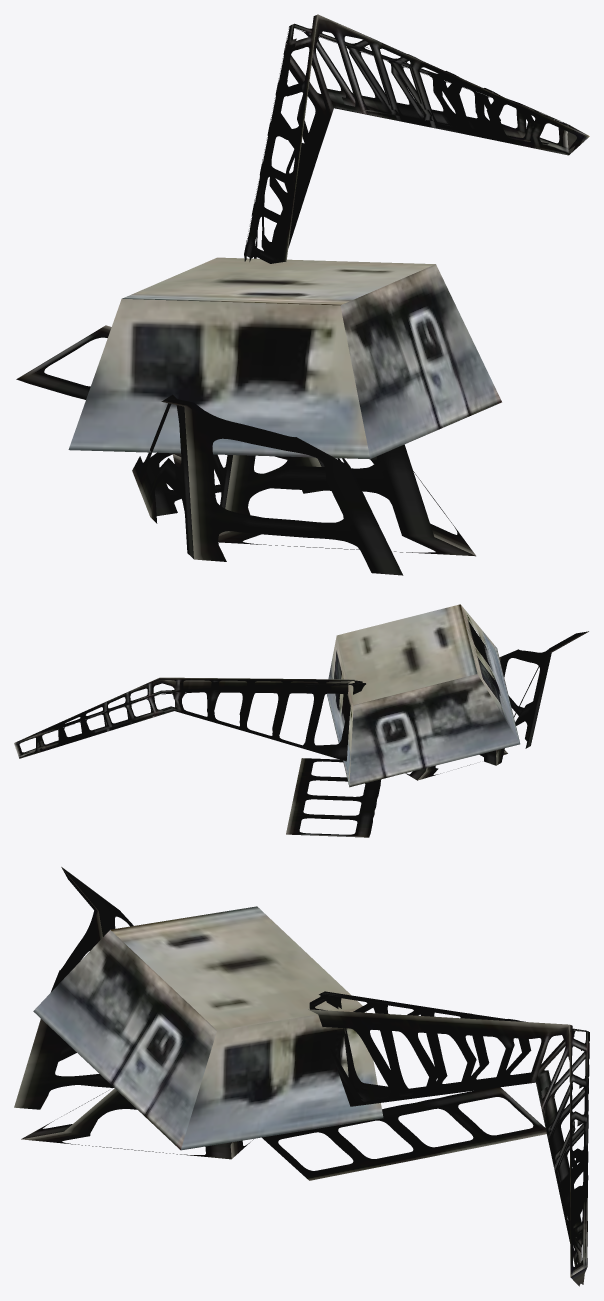
Rendered from crane_dam_hdtex.glb.
3 views of the same model, one above another, from view 1: azimuth 30°, elevation 25°; view 2: azimuth 150°, elevation 25°; view 3: azimuth 270°, elevation 25° (orthographic). The views are drawn at different scales.
Visible parts, largest first — view 1: Object01, Crane_PAB; view 2: Object01, Crane_PAB; view 3: Object01, Crane_PAB.
Part boxes in pixels (x1=…): Object01: x1=68, y1=257, x2=501, y2=575; Crane_PAB: x1=16, y1=14, x2=589, y2=459; Object01: x1=327, y1=604, x2=588, y2=787; Crane_PAB: x1=14, y1=677, x2=381, y2=837; Object01: x1=14, y1=867, x2=383, y2=1159; Crane_PAB: x1=262, y1=991, x2=589, y2=1286.
Bounding box in the file's own units: 13.17 × 4.14 × 11.11.
Materials: 1 (1 with a texture image).
